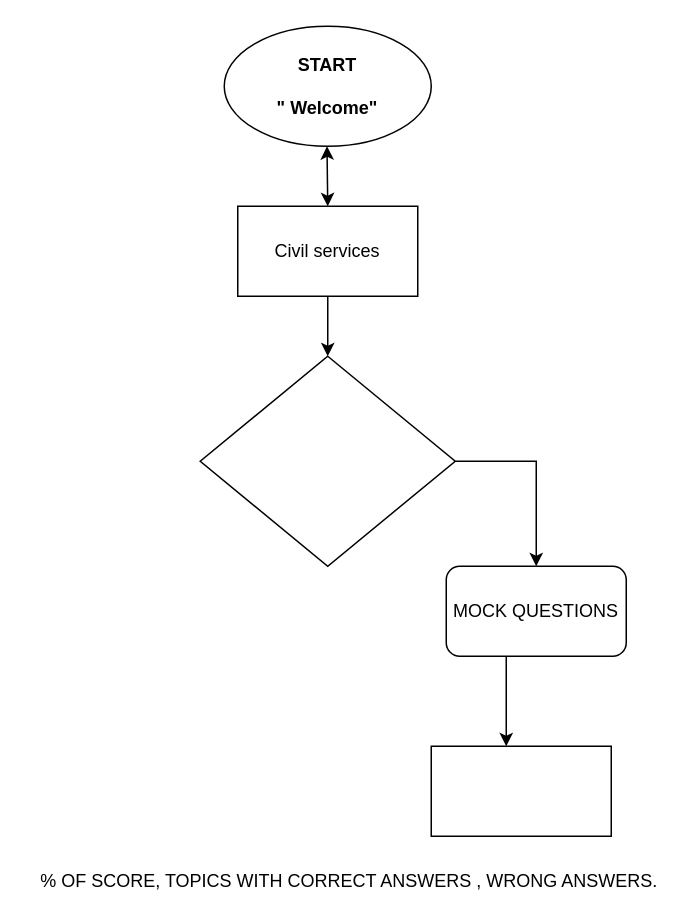
This 696x923 diagram has some shape labels left out. Each missing label, with the box of its shape:
CHOSE WHICH QUESTION PATTERN: (199, 355, 455, 566)
RESULTS: (430, 745, 611, 836)
